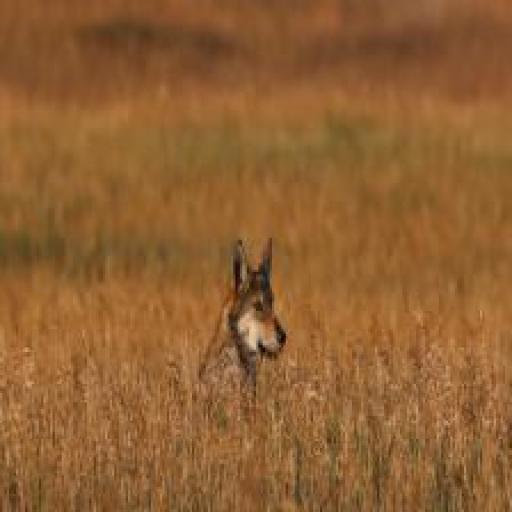wolf: (185, 194, 295, 394)
